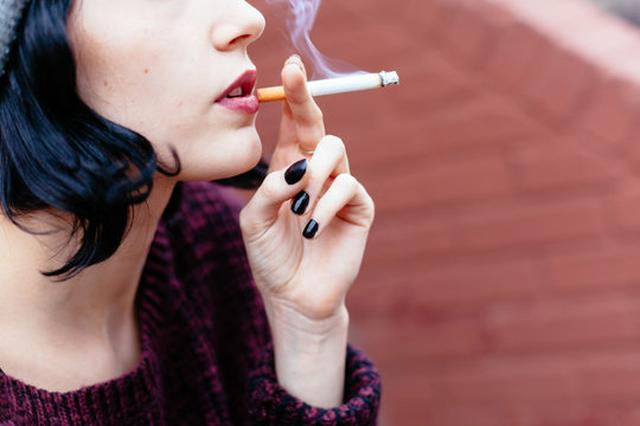Cigarette: (254, 68, 400, 103)
